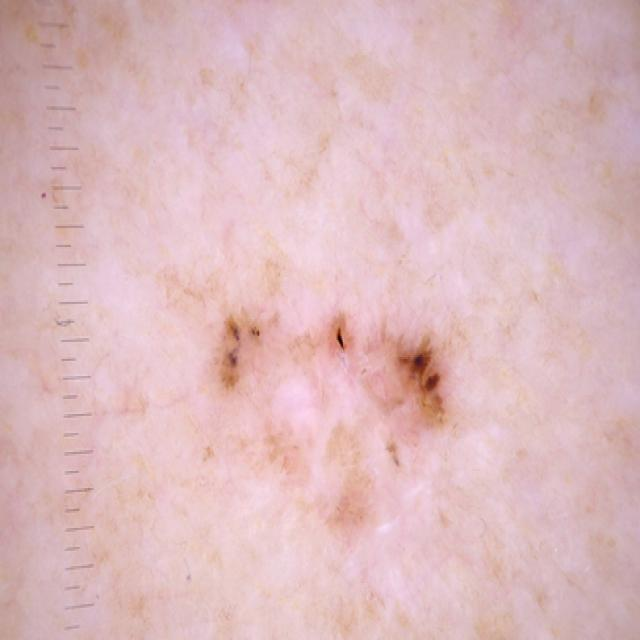Carcinoma: (167, 245, 553, 640)
